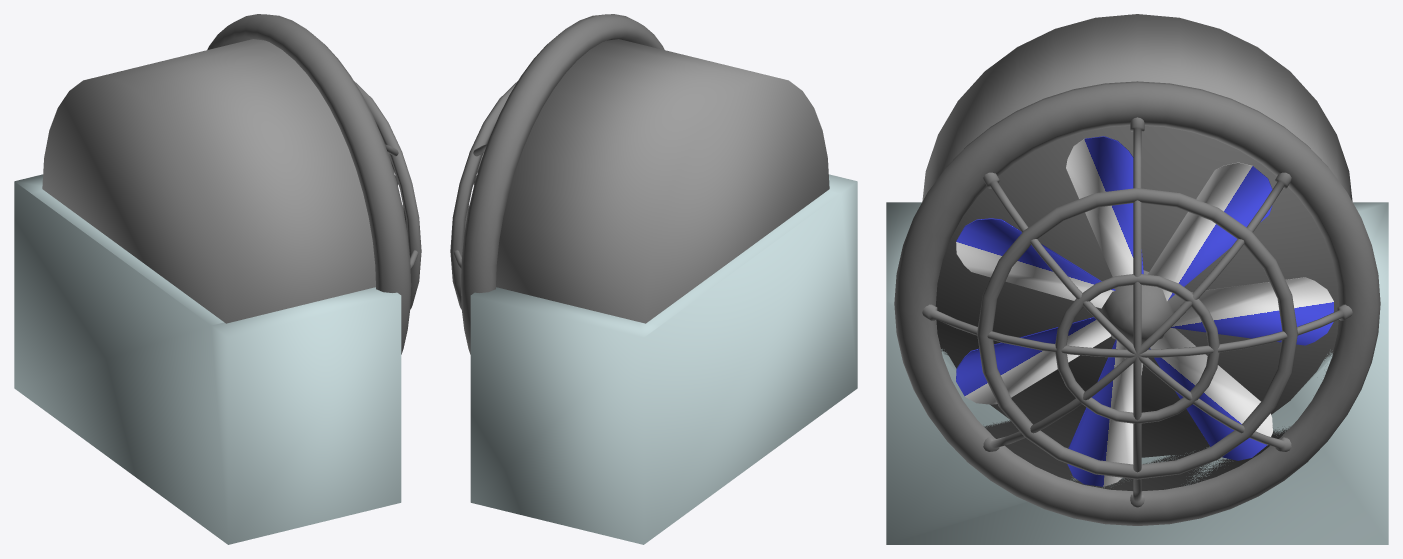
File: Ventilateur.fbx
3 renders of one model, left to right at view 1: azimuth 30°, elevation 25°; view 2: azimuth 150°, elevation 25°; view 3: azimuth 270°, elevation 25°, orthographic. The views are drawn at different scales.
Parts seen in each view (by area): view 1: VentilateurSupport, VentilateurBody, VentilateurCage; view 2: VentilateurSupport, VentilateurBody, VentilateurCage; view 3: VentilateurCage, VentilateurBody, VentilateurSupport, VentilatorRotater.
Boxes of the visible parts, x1=… form: VentilateurSupport: x1=14, y1=174, x2=401, y2=544; VentilateurBody: x1=42, y1=39, x2=375, y2=323; VentilateurCage: x1=207, y1=14, x2=421, y2=354; VentilateurSupport: x1=470, y1=174, x2=857, y2=544; VentilateurBody: x1=496, y1=39, x2=829, y2=323; VentilateurCage: x1=450, y1=14, x2=664, y2=354; VentilateurCage: x1=894, y1=81, x2=1380, y2=525; VentilateurBody: x1=922, y1=14, x2=1352, y2=490; VentilateurSupport: x1=886, y1=202, x2=1388, y2=544; VentilatorRotater: x1=956, y1=136, x2=1333, y2=486.
Bounding box in the file's own units: 6.85 × 9.49 × 9.67.
